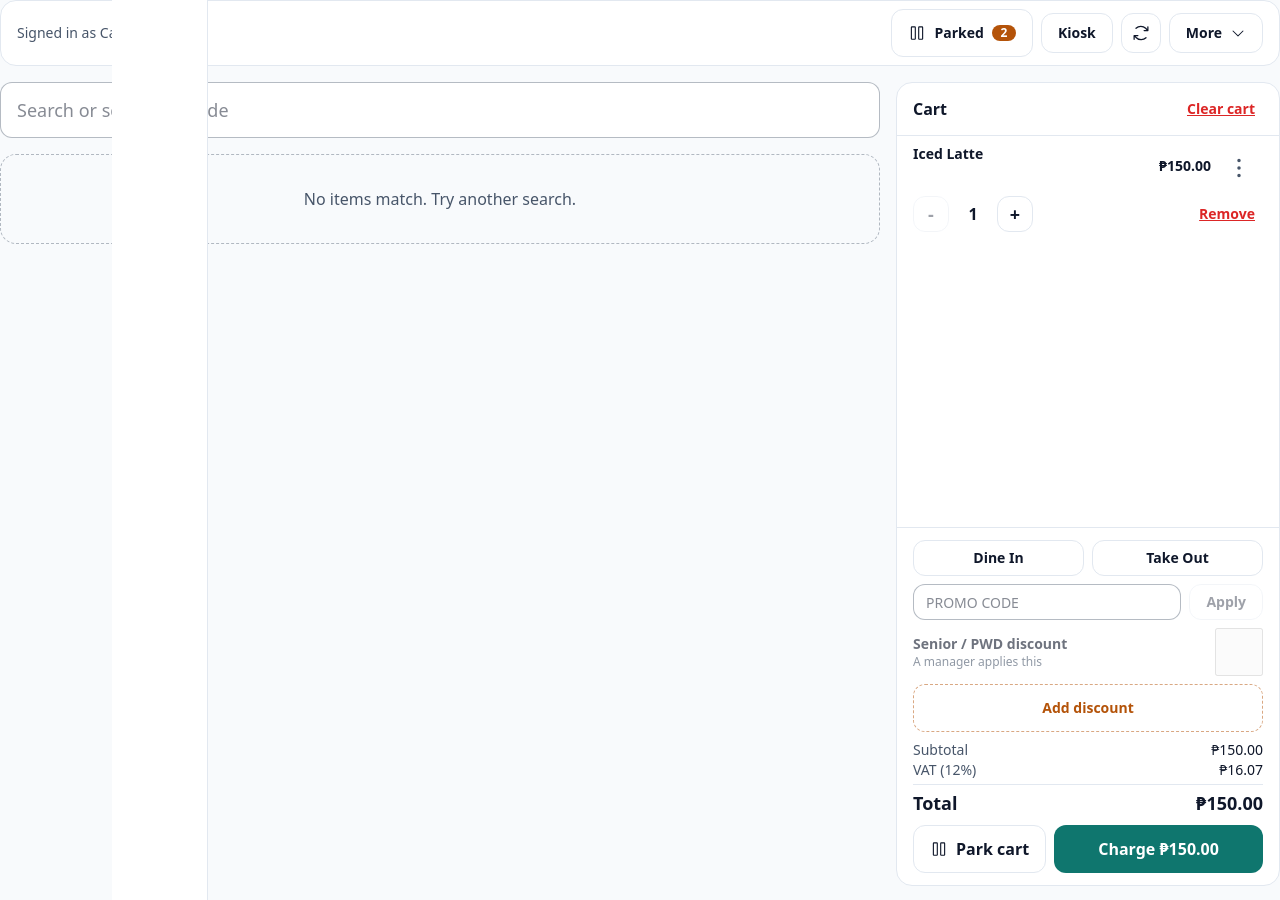
Scenario: Parked carts drawer › resumes a cart and summarises what changed in a toast
Click the button with aria-label "Parked carts, 2 waiting" at x=962, y=33, box [892,9,1033,57]
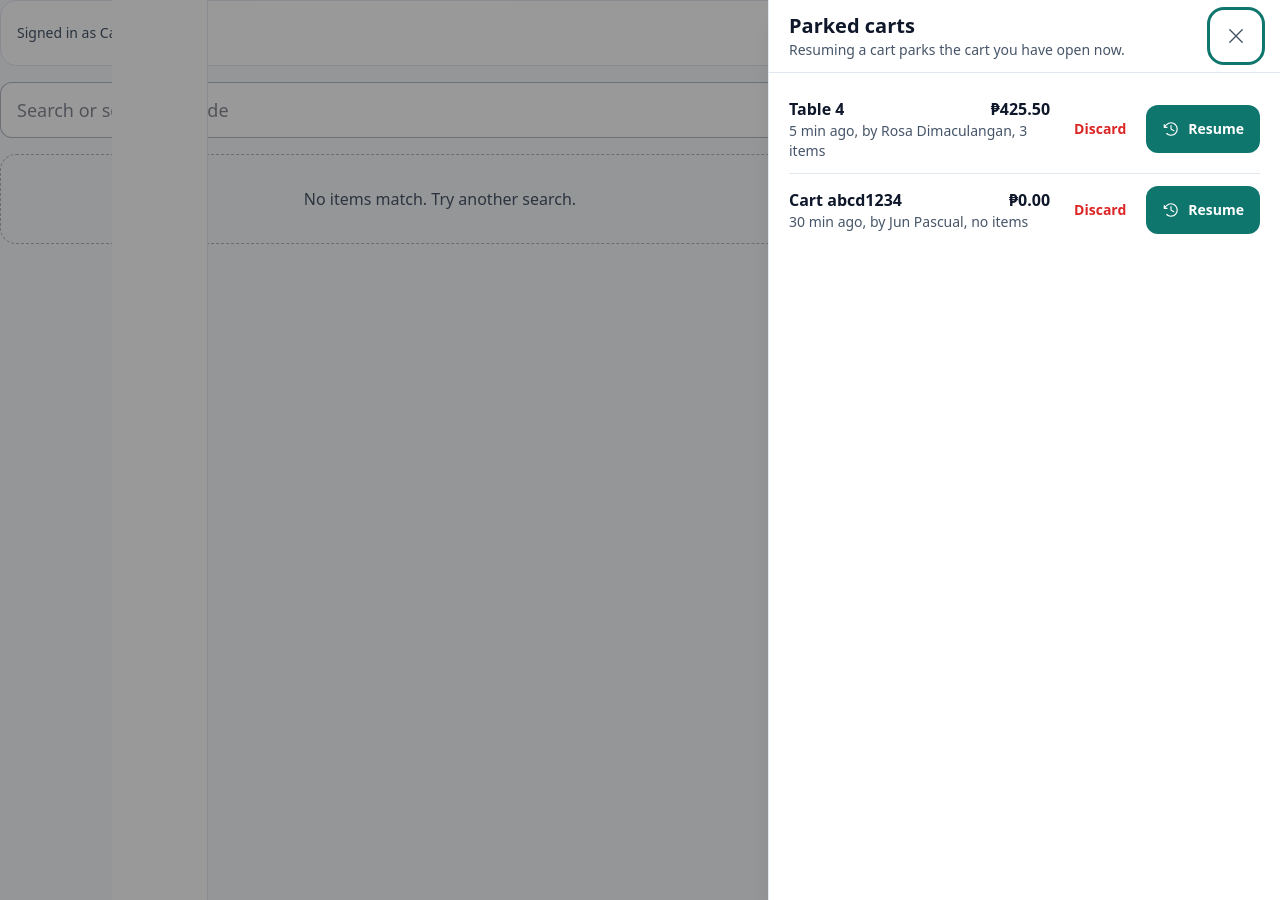
Click the button with aria-label "Resume Table 4" at x=1203, y=129, box [1146,105,1260,153]
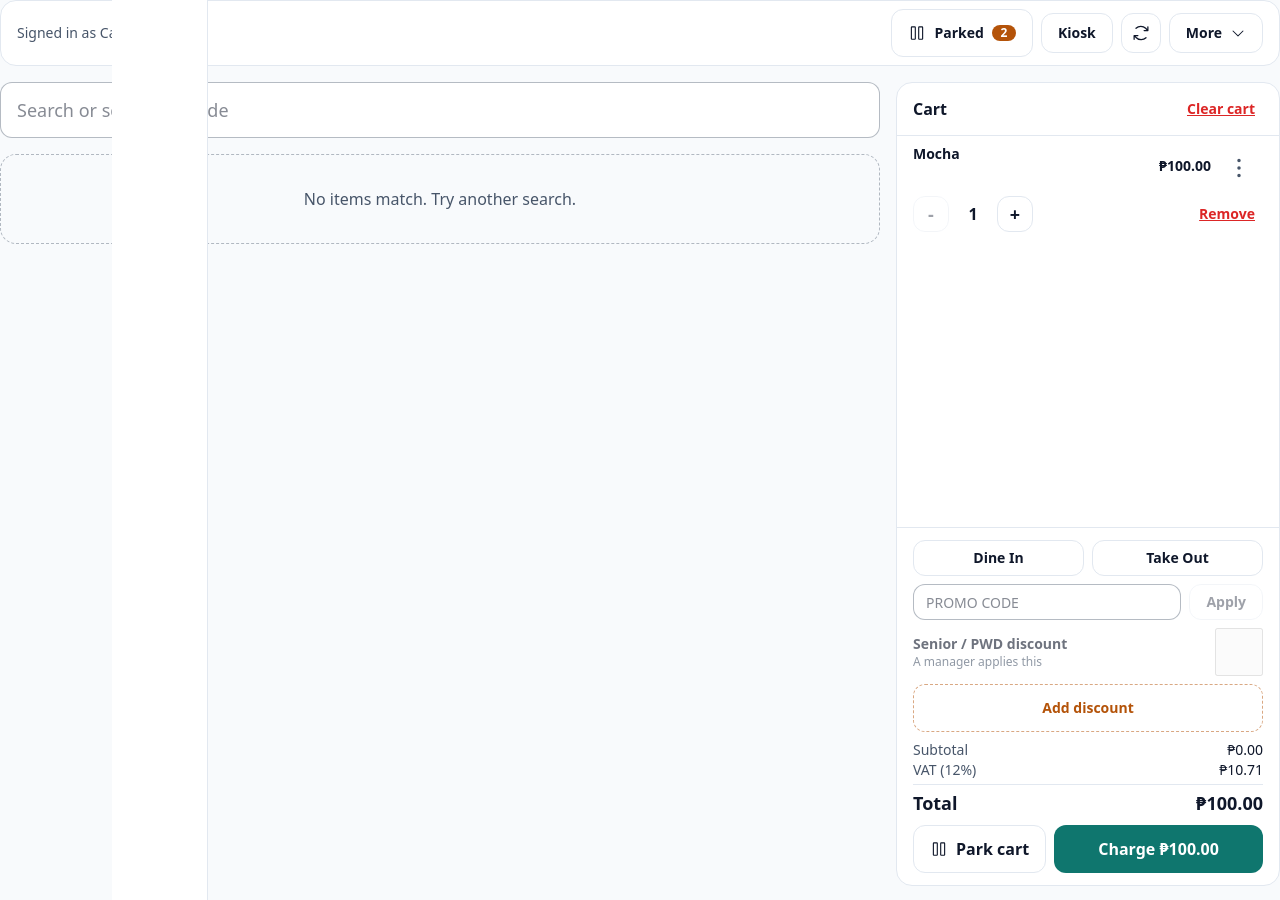
Result: the heading "Parked carts" is gone
